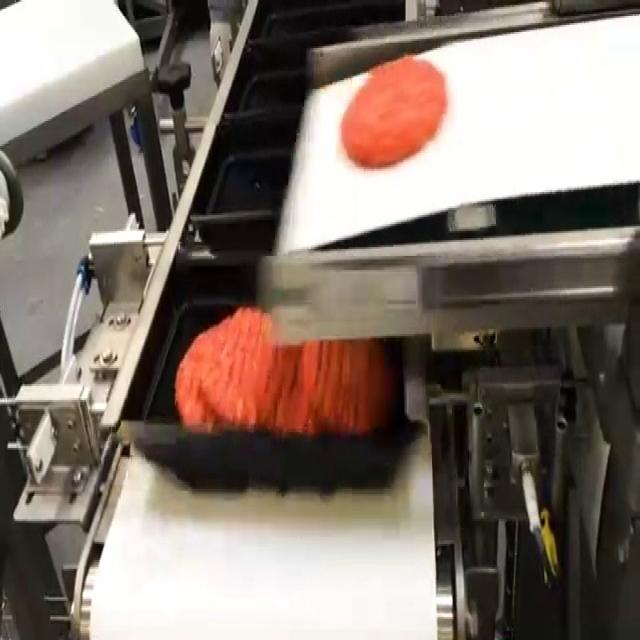4-hamburguer: (176, 308, 397, 432)
hamburguer: (341, 55, 447, 165)
